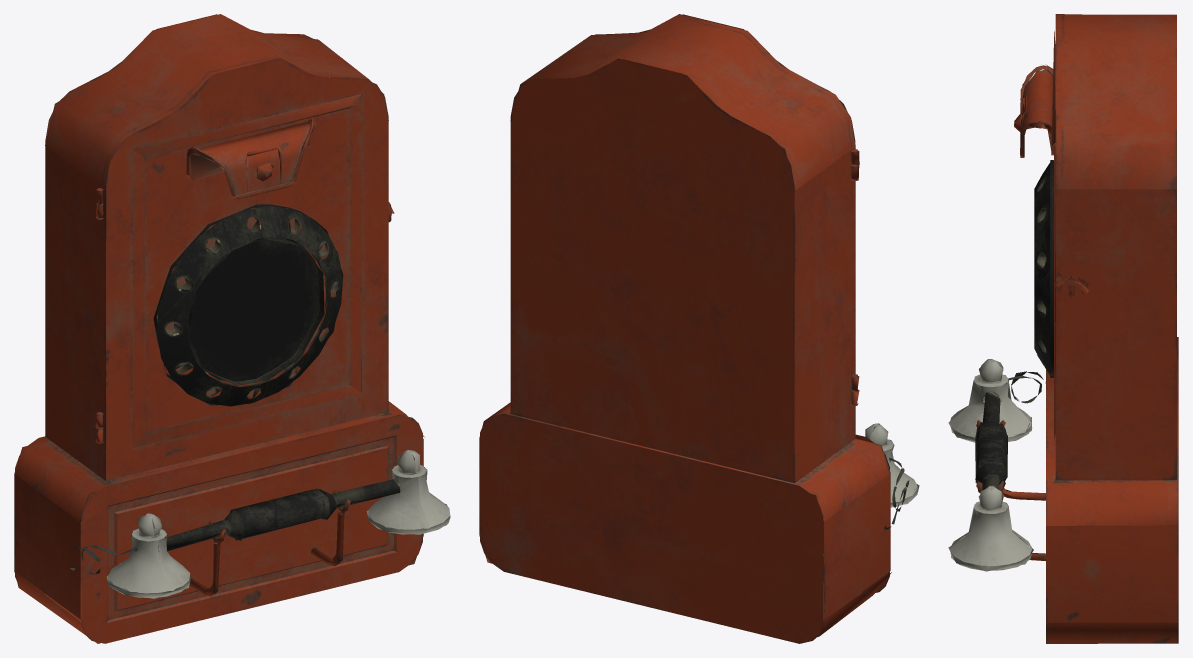
Rendered from vintage_telephone_wall_clock.fbx.
The picture shows the model from 3 angles, left to right: view 1: azimuth 30°, elevation 25°; view 2: azimuth 150°, elevation 25°; view 3: azimuth 270°, elevation 25°; orthographic projection.
Visible parts, largest first — view 1: vintage_telephone_wall_clock; view 2: vintage_telephone_wall_clock; view 3: vintage_telephone_wall_clock.
Boxes of the visible parts, x1=… form: vintage_telephone_wall_clock: x1=14, y1=14, x2=450, y2=643; vintage_telephone_wall_clock: x1=479, y1=14, x2=919, y2=643; vintage_telephone_wall_clock: x1=948, y1=14, x2=1178, y2=643.
Bounding box in the file's own units: 34.4 × 50.05 × 19.4.
2 materials, 2 textured.
